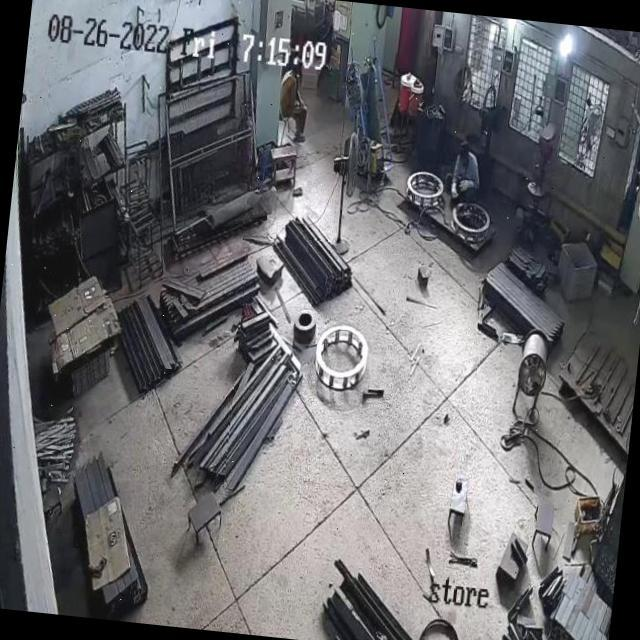person: (274, 68, 315, 140), (451, 140, 486, 202)
